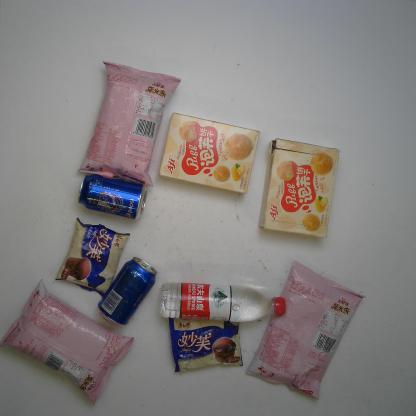Dessert: (256, 136, 341, 240), (159, 113, 261, 195), (53, 217, 132, 299), (167, 315, 245, 373)
Drink: (159, 281, 286, 323), (96, 254, 159, 327), (76, 174, 150, 221)
Puffed Food: (245, 258, 368, 402), (0, 277, 136, 407), (76, 60, 182, 189)
